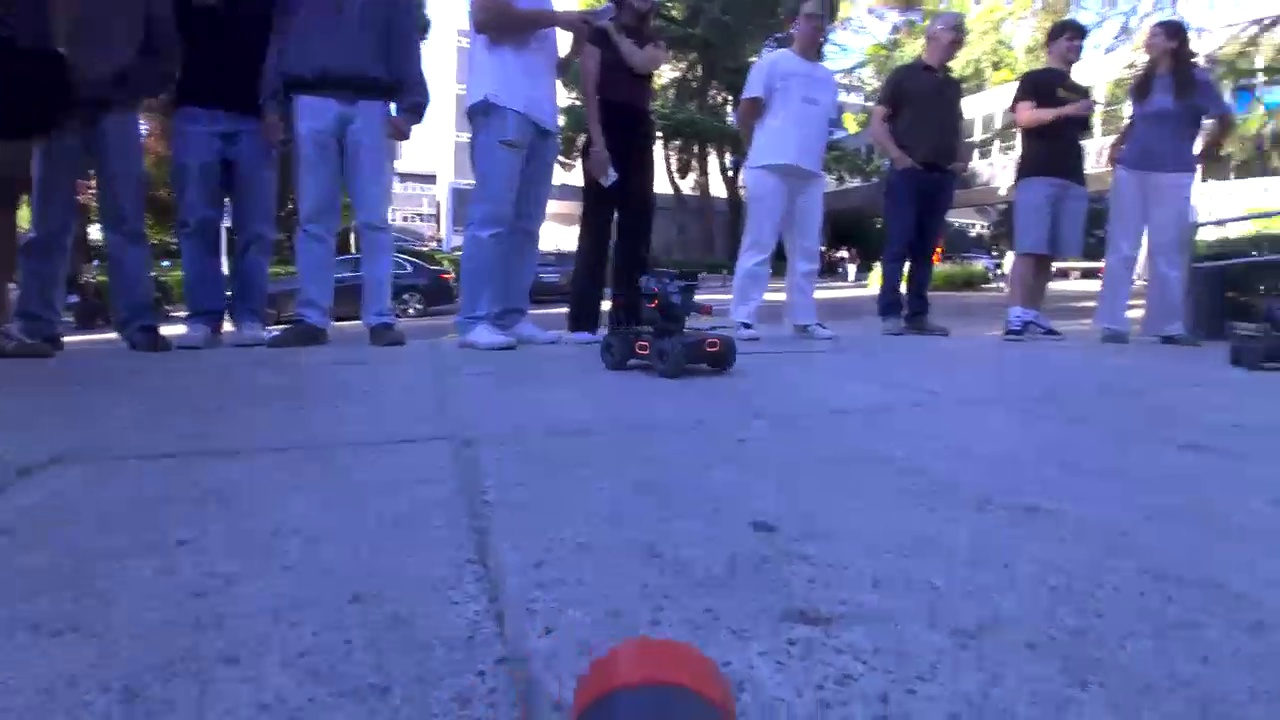robot: (603, 268, 741, 380)
